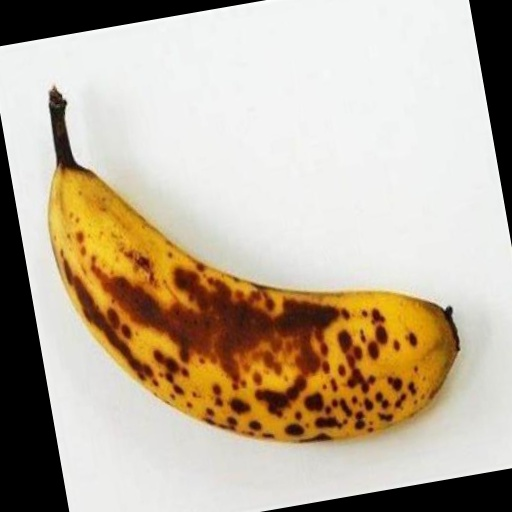fruit: (49, 89, 459, 441)
